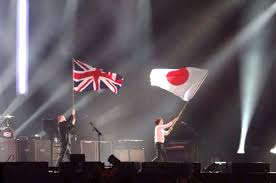Japanese Flag: (145, 63, 208, 101)
